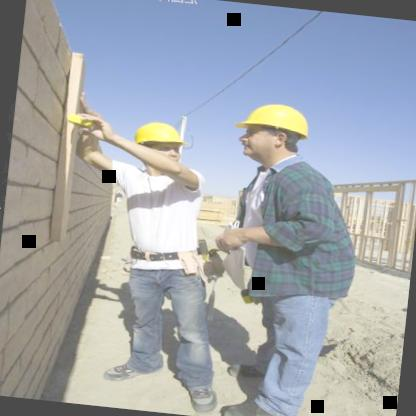helmet: (222, 95, 316, 170), (126, 113, 193, 172)
